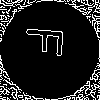F: (25, 25, 73, 59)
